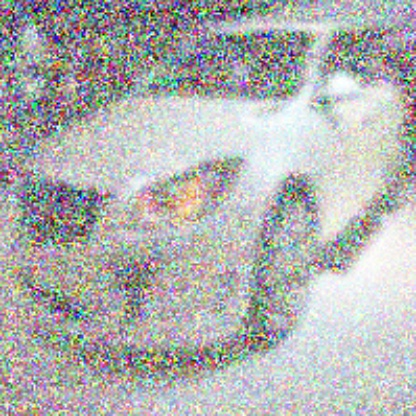Vehicle: (13, 22, 411, 354)
